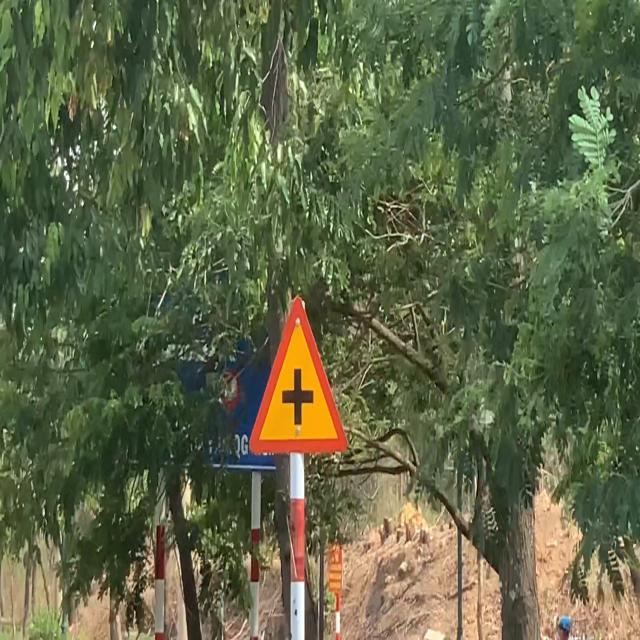Duong giao nhau: (246, 296, 349, 455)
